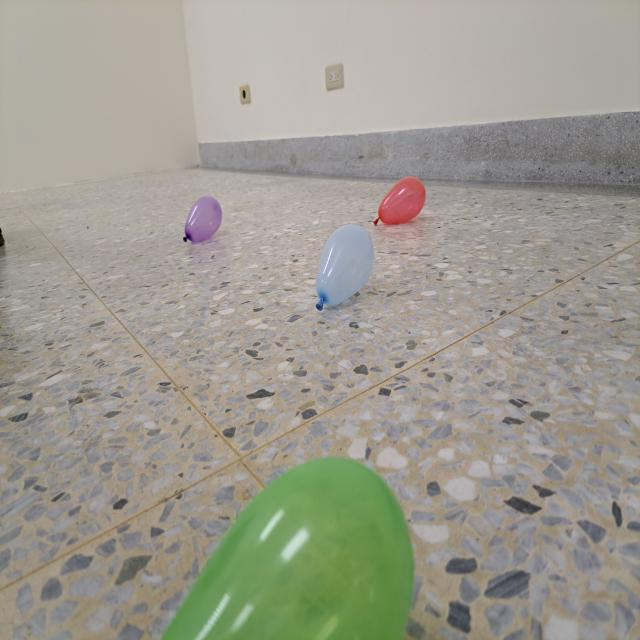other: (162, 457, 415, 640), (313, 224, 373, 312), (181, 194, 222, 244)
red: (372, 175, 426, 228)
